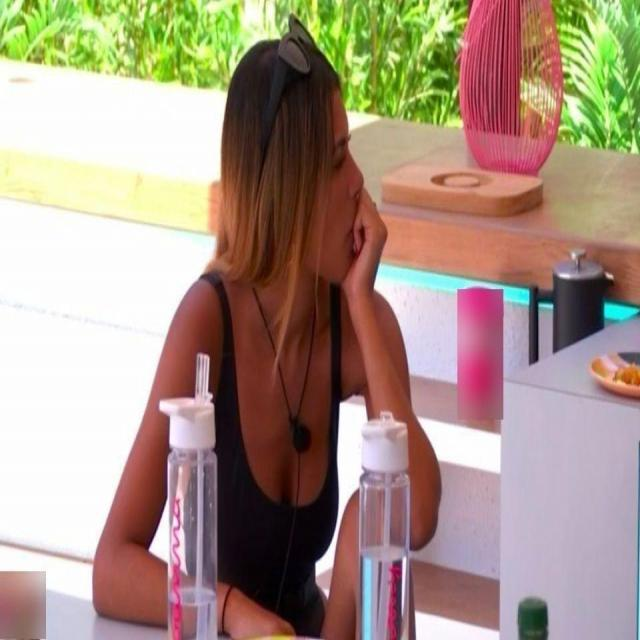gym bottle: (160, 394, 217, 638), (358, 409, 416, 639)
